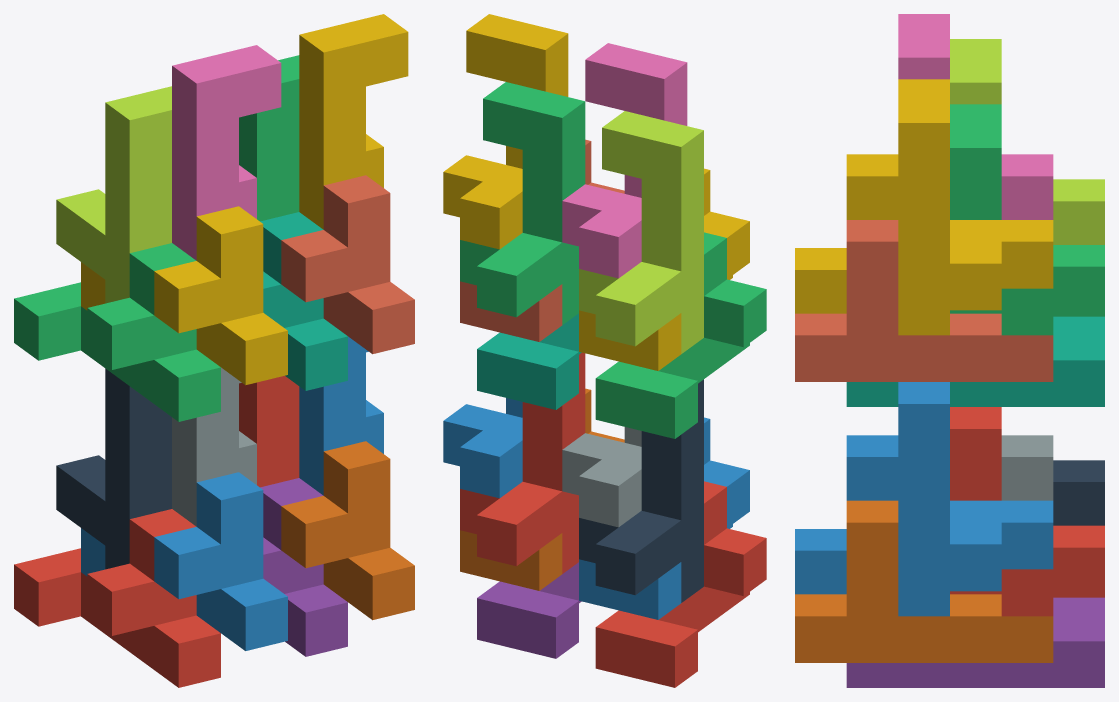
File: tiling.obj
The picture shows the model from 3 angles, left to right: view 1: azimuth 30°, elevation 25°; view 2: azimuth 150°, elevation 25°; view 3: azimuth 270°, elevation 25°; orthographic projection. The views are drawn at different scales.
Parts seen in each view (by area): view 1: copy_1_domain_3, copy_1_domain_1, copy_1_domain_4, copy_1_domain_2, copy_2_domain_3, copy_1_domain_8, copy_1_domain_6, copy_2_domain_4, copy_2_domain_8, copy_2_domain_1, copy_1_domain_7, copy_1_domain_5 (+4 smaller); view 2: copy_2_domain_3, copy_2_domain_7, copy_2_domain_1, copy_1_domain_1, copy_1_domain_3, copy_2_domain_4, copy_2_domain_8, copy_2_domain_5, copy_1_domain_7, copy_1_domain_5, copy_2_domain_2, copy_2_domain_6 (+4 smaller); view 3: copy_2_domain_8, copy_2_domain_6, copy_1_domain_6, copy_1_domain_8, copy_2_domain_7, copy_2_domain_5, copy_1_domain_5, copy_1_domain_7, copy_1_domain_2, copy_1_domain_4, copy_2_domain_4, copy_2_domain_3 (+2 smaller).
Part boxes in pixels (left/top/right/bottom): copy_1_domain_3: left=14, top=243, right=220, bottom=421; copy_1_domain_1: left=14, top=509, right=220, bottom=687; copy_1_domain_4: left=81, top=206, right=287, bottom=385; copy_1_domain_2: left=81, top=472, right=287, bottom=650; copy_2_domain_3: left=56, top=86, right=171, bottom=303; copy_1_domain_8: left=281, top=175, right=414, bottom=354; copy_1_domain_6: left=281, top=441, right=414, bottom=620; copy_2_domain_4: left=172, top=45, right=281, bottom=260; copy_2_domain_8: left=299, top=14, right=408, bottom=229; copy_2_domain_1: left=56, top=368, right=171, bottom=569; copy_1_domain_7: left=260, top=212, right=347, bottom=390; copy_1_domain_5: left=260, top=478, right=347, bottom=656; copy_2_domain_3: left=579, top=111, right=703, bottom=353; copy_2_domain_7: left=460, top=82, right=585, bottom=324; copy_2_domain_1: left=579, top=379, right=703, bottom=602; copy_1_domain_1: left=595, top=481, right=766, bottom=687; copy_1_domain_3: left=595, top=232, right=766, bottom=438; copy_2_domain_4: left=562, top=43, right=687, bottom=278; copy_2_domain_8: left=443, top=14, right=568, bottom=249; copy_2_domain_5: left=460, top=352, right=585, bottom=573; copy_1_domain_7: left=477, top=313, right=581, bottom=409; copy_1_domain_5: left=477, top=562, right=581, bottom=658; copy_2_domain_2: left=562, top=427, right=641, bottom=527; copy_2_domain_6: left=443, top=398, right=522, bottom=498; copy_2_domain_8: left=898, top=79, right=1053, bottom=335; copy_2_domain_6: left=898, top=382, right=1053, bottom=616; copy_1_domain_6: left=795, top=500, right=1053, bottom=662; copy_1_domain_8: left=795, top=220, right=1053, bottom=381; copy_2_domain_7: left=950, top=104, right=1104, bottom=335; copy_2_domain_5: left=950, top=407, right=1104, bottom=616; copy_1_domain_5: left=846, top=597, right=1104, bottom=687; copy_1_domain_7: left=846, top=316, right=1104, bottom=406; copy_1_domain_2: left=795, top=435, right=898, bottom=594; copy_1_domain_4: left=795, top=154, right=898, bottom=313; copy_2_domain_4: left=898, top=14, right=1053, bottom=219; copy_2_domain_3: left=950, top=39, right=1104, bottom=244.
Bounding box in the file's own units: 7 × 13 × 6.
